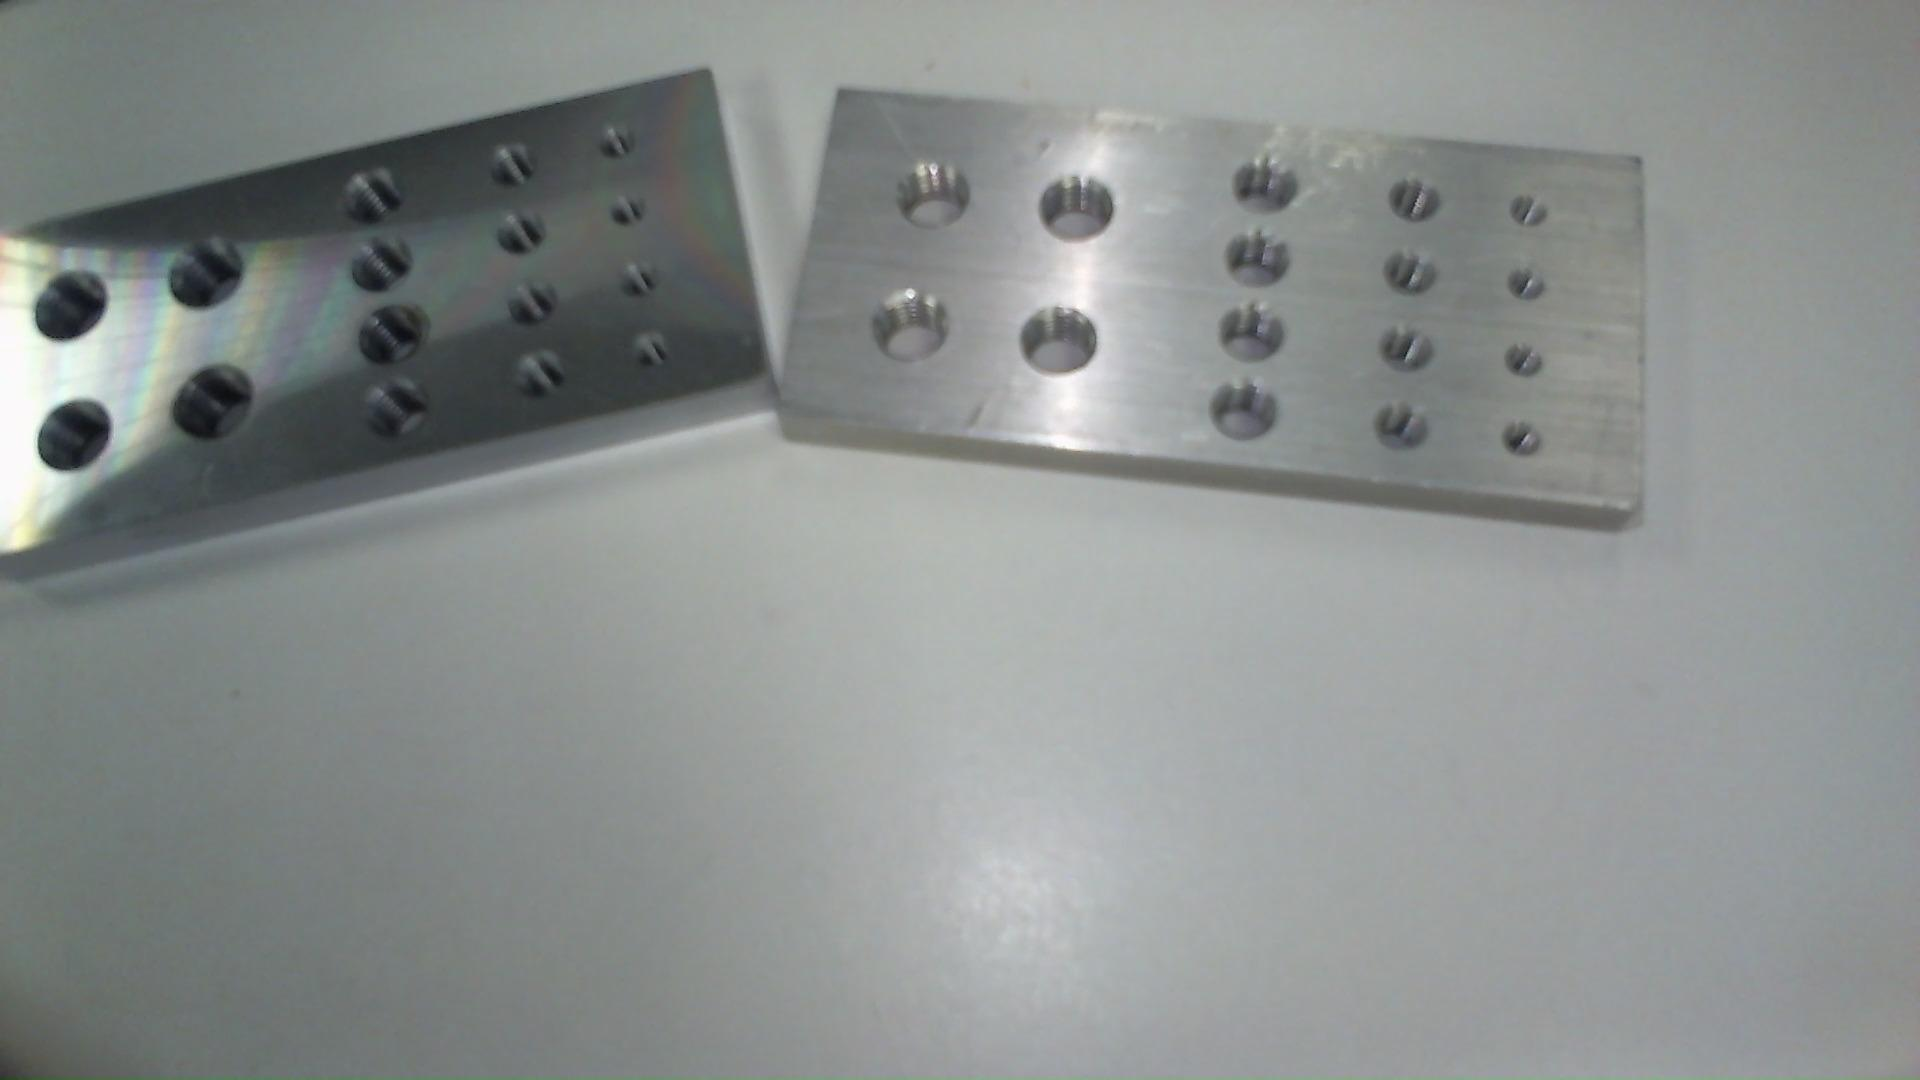hole: (25, 389, 125, 487), (169, 355, 257, 448), (26, 258, 113, 352), (161, 229, 252, 318), (894, 145, 977, 240), (1033, 161, 1122, 247), (1015, 294, 1102, 381), (874, 282, 955, 365), (349, 295, 434, 371), (1205, 372, 1286, 447), (339, 229, 425, 287), (334, 165, 411, 227), (1229, 150, 1303, 215), (364, 378, 436, 443), (1222, 227, 1295, 291), (1377, 240, 1452, 301), (1371, 396, 1440, 462), (502, 345, 575, 407), (1222, 302, 1288, 367), (485, 132, 543, 199), (1373, 320, 1439, 378), (1386, 167, 1447, 229), (492, 207, 555, 258), (501, 277, 560, 327), (625, 327, 675, 384), (1497, 410, 1549, 463), (1509, 185, 1553, 243), (589, 120, 640, 170), (1502, 262, 1553, 310), (616, 262, 663, 305), (607, 183, 647, 232), (1499, 339, 1545, 381)
